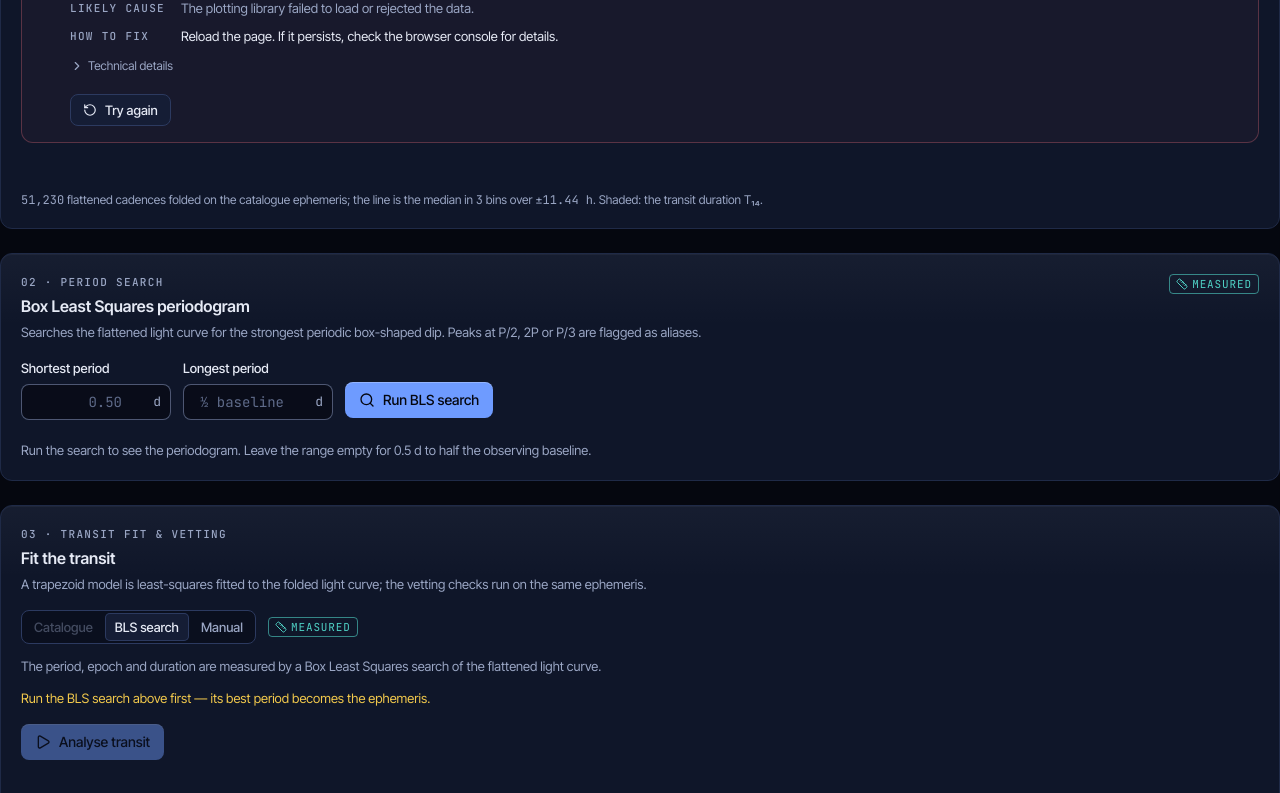
it: Transit Analysis › shows the server's error envelope when BLS fails
(page scrolled)
Click the button "Run BLS search" at (419, 400), box x1=345 y1=382 x2=493 y2=418
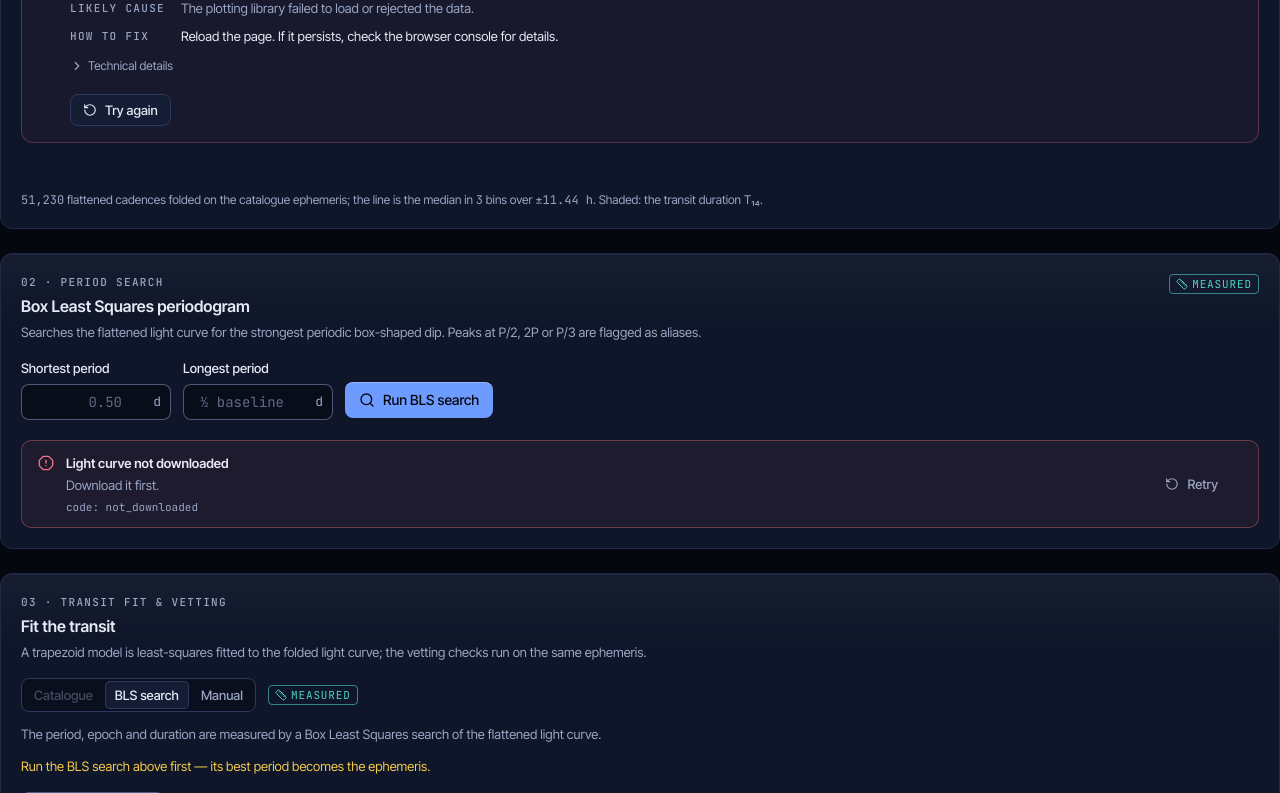
Now the text "Light curve not downloaded" is shown, box x1=66 y1=455 x2=229 y2=471
Now the text "Download it first." is shown, box x1=66 y1=477 x2=159 y2=493
